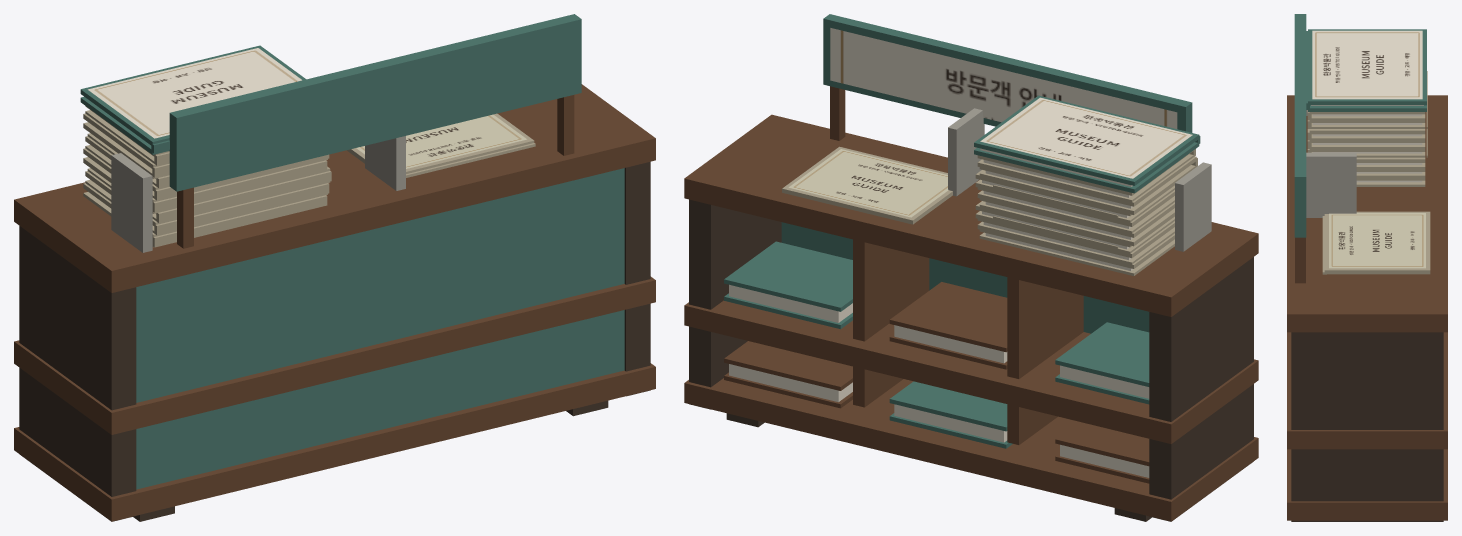
Rendered from N04_Foreign_Guide_Credenza.fbx.
The picture shows the model from 3 angles, left to right: view 1: azimuth 30°, elevation 25°; view 2: azimuth 150°, elevation 25°; view 3: azimuth 270°, elevation 25°; orthographic projection. The views are drawn at different scales.
Visible parts, largest first — view 1: Structure, Worn_Guide_Stack, Fresh_Top_Guide; view 2: Structure, Worn_Guide_Stack, Fresh_Top_Guide; view 3: Structure, Worn_Guide_Stack, Fresh_Top_Guide.
Part boxes in pixels (x1=…): Structure: x1=14, y1=14, x2=655, y2=521; Worn_Guide_Stack: x1=83, y1=106, x2=535, y2=247; Fresh_Top_Guide: x1=80, y1=45, x2=306, y2=154; Structure: x1=684, y1=14, x2=1258, y2=521; Worn_Guide_Stack: x1=782, y1=146, x2=1197, y2=275; Fresh_Top_Guide: x1=974, y1=95, x2=1200, y2=193; Structure: x1=1287, y1=14, x2=1447, y2=521; Worn_Guide_Stack: x1=1307, y1=71, x2=1430, y2=274; Fresh_Top_Guide: x1=1306, y1=29, x2=1426, y2=111.
Bounding box in the file's own units: 3.09 × 2.17 × 0.96.
Materials: 7 (1 with a texture image).
